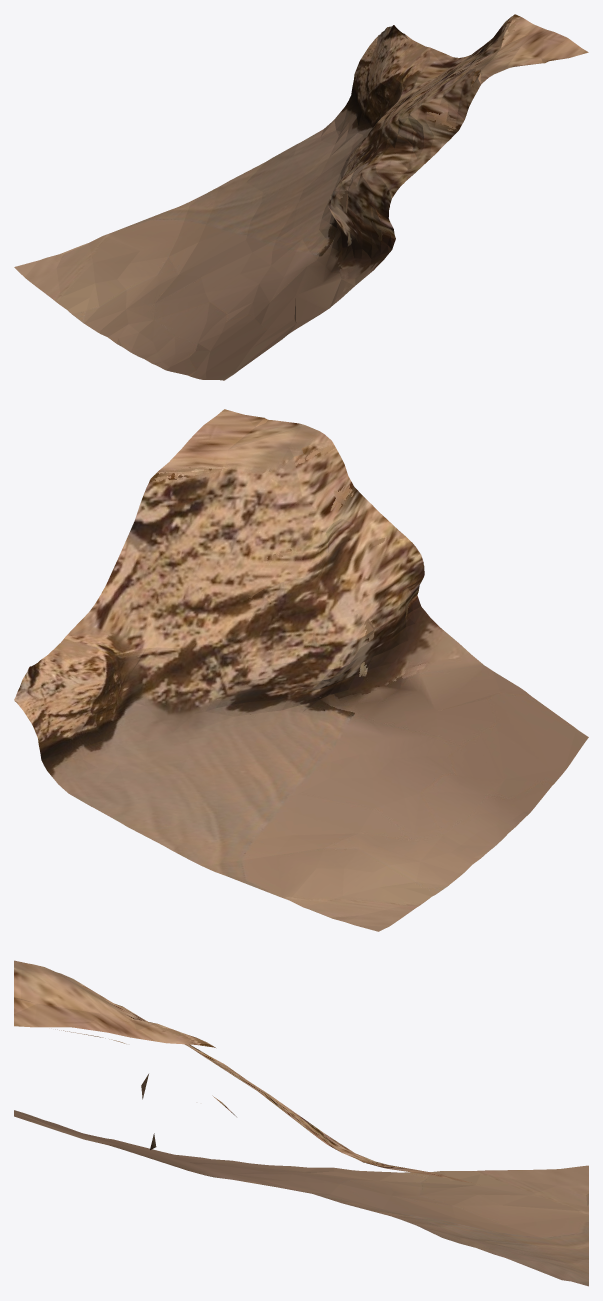
3 views of the same model, one above another, from view 1: azimuth 30°, elevation 25°; view 2: azimuth 150°, elevation 25°; view 3: azimuth 270°, elevation 25° (orthographic). The views are drawn at different scales.
Size of the model in its own units: 1.04 by 0.7909 by 1.04.
3 materials, 3 textured.
